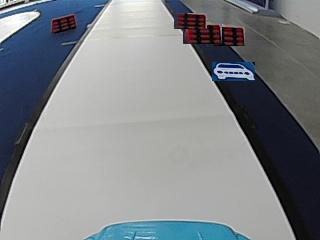bomb: (51, 12, 76, 32)
